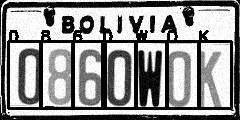0: (102, 41, 136, 108), (8, 41, 41, 108)
6: (72, 41, 105, 108)
8: (40, 41, 73, 108)
K: (198, 41, 231, 108)
O: (166, 41, 199, 108)
W: (135, 41, 167, 108)
